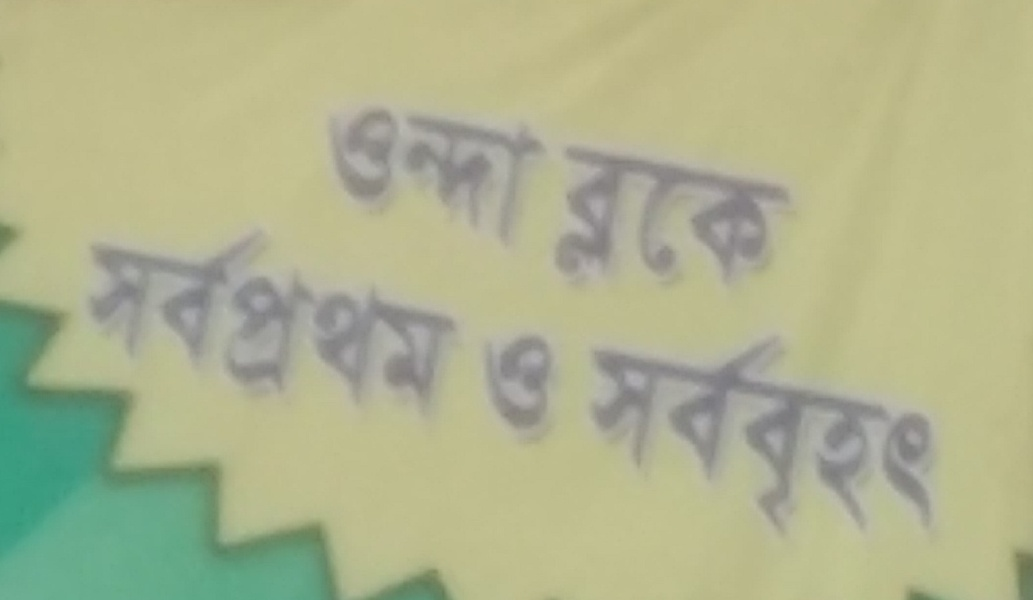text: (593, 298, 608, 570), (609, 298, 624, 570), (625, 298, 640, 570), (641, 298, 656, 570), (657, 298, 672, 570), (673, 298, 688, 570), (689, 298, 704, 570), (705, 298, 720, 570), (721, 298, 736, 570), (737, 298, 752, 570), (753, 298, 768, 570), (769, 298, 784, 570), (785, 298, 800, 570), (801, 298, 816, 570), (817, 298, 832, 570), (833, 298, 848, 570), (849, 298, 864, 570), (865, 298, 880, 570), (881, 298, 896, 570), (897, 298, 912, 570), (913, 298, 928, 570), (929, 298, 944, 570), (945, 298, 960, 570), (113, 194, 128, 440), (129, 194, 144, 440), (145, 194, 160, 440), (161, 194, 176, 440), (177, 194, 192, 440), (193, 194, 208, 440), (209, 194, 224, 440), (225, 194, 240, 440), (241, 194, 256, 440), (257, 194, 272, 440), (273, 194, 288, 440), (289, 194, 304, 440), (305, 194, 320, 440), (321, 194, 336, 440), (337, 194, 352, 440), (353, 194, 368, 440), (369, 194, 384, 440), (385, 194, 400, 440), (401, 194, 416, 440), (417, 194, 432, 440), (433, 194, 448, 440), (449, 194, 464, 440), (99, 194, 112, 440), (465, 194, 477, 440), (337, 79, 352, 253), (353, 79, 368, 253), (369, 79, 384, 253), (385, 79, 400, 253), (401, 79, 416, 253), (417, 79, 432, 253), (433, 79, 448, 253), (449, 79, 464, 253), (465, 79, 480, 253), (481, 79, 496, 253), (497, 79, 512, 253), (513, 79, 528, 253), (529, 79, 544, 253), (577, 140, 592, 305), (593, 140, 608, 305), (609, 140, 624, 305), (625, 140, 640, 305), (641, 140, 656, 305), (657, 140, 672, 305), (673, 140, 688, 305), (689, 140, 704, 305), (705, 140, 720, 305), (721, 140, 736, 305), (737, 140, 752, 305), (753, 140, 768, 305), (769, 140, 784, 305), (563, 140, 576, 305), (785, 140, 796, 305), (545, 79, 555, 253), (497, 320, 512, 435), (513, 320, 528, 435), (529, 320, 544, 435), (545, 320, 560, 435), (483, 320, 496, 435), (332, 79, 336, 253), (561, 320, 565, 435), (1016, 546, 1024, 599), (1025, 546, 1033, 599), (591, 298, 592, 570)
